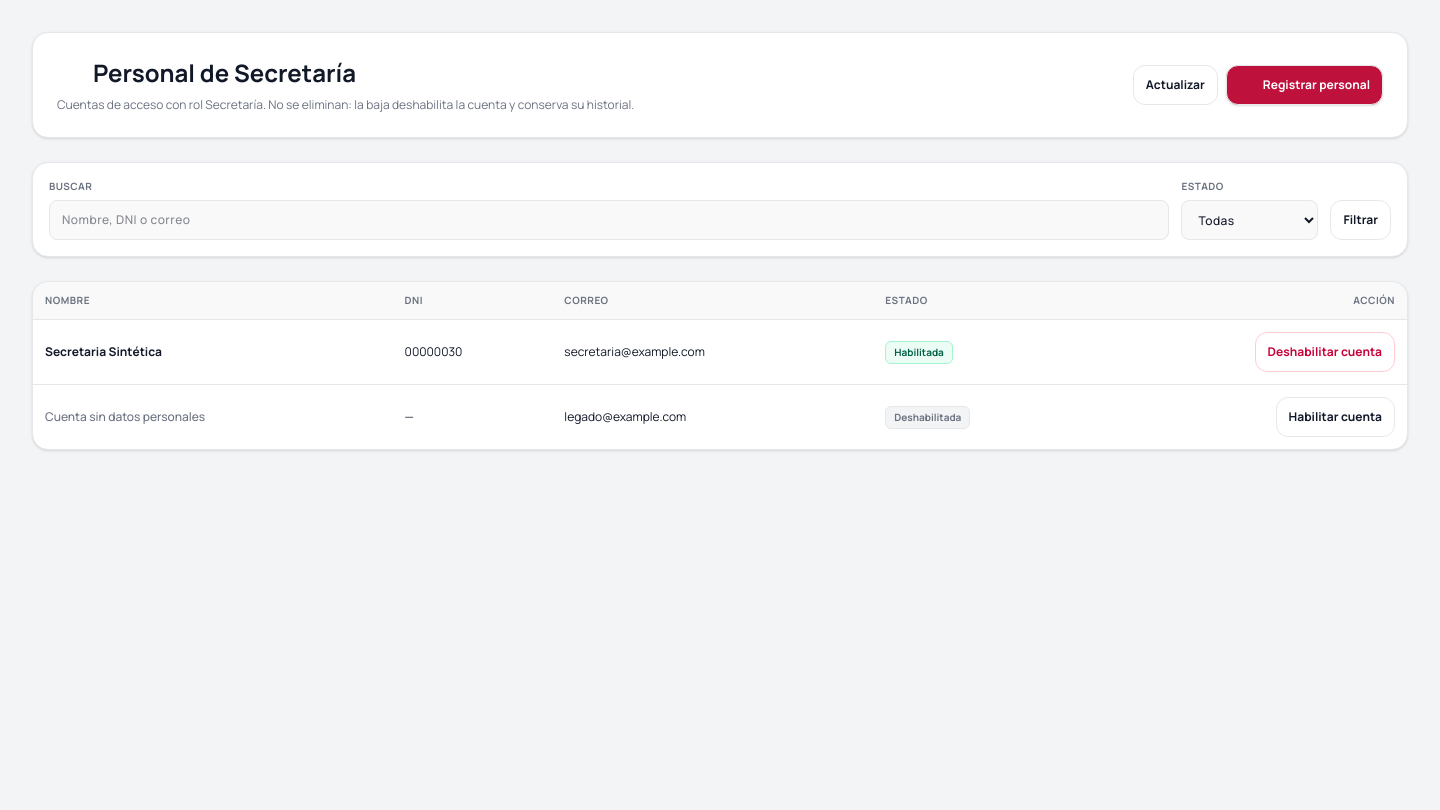
registering staff validates, asks for confirmation, sends the payload and reloads
Click the button "Registrar personal" at (1304, 85), box 1226,65 -> 1383,105
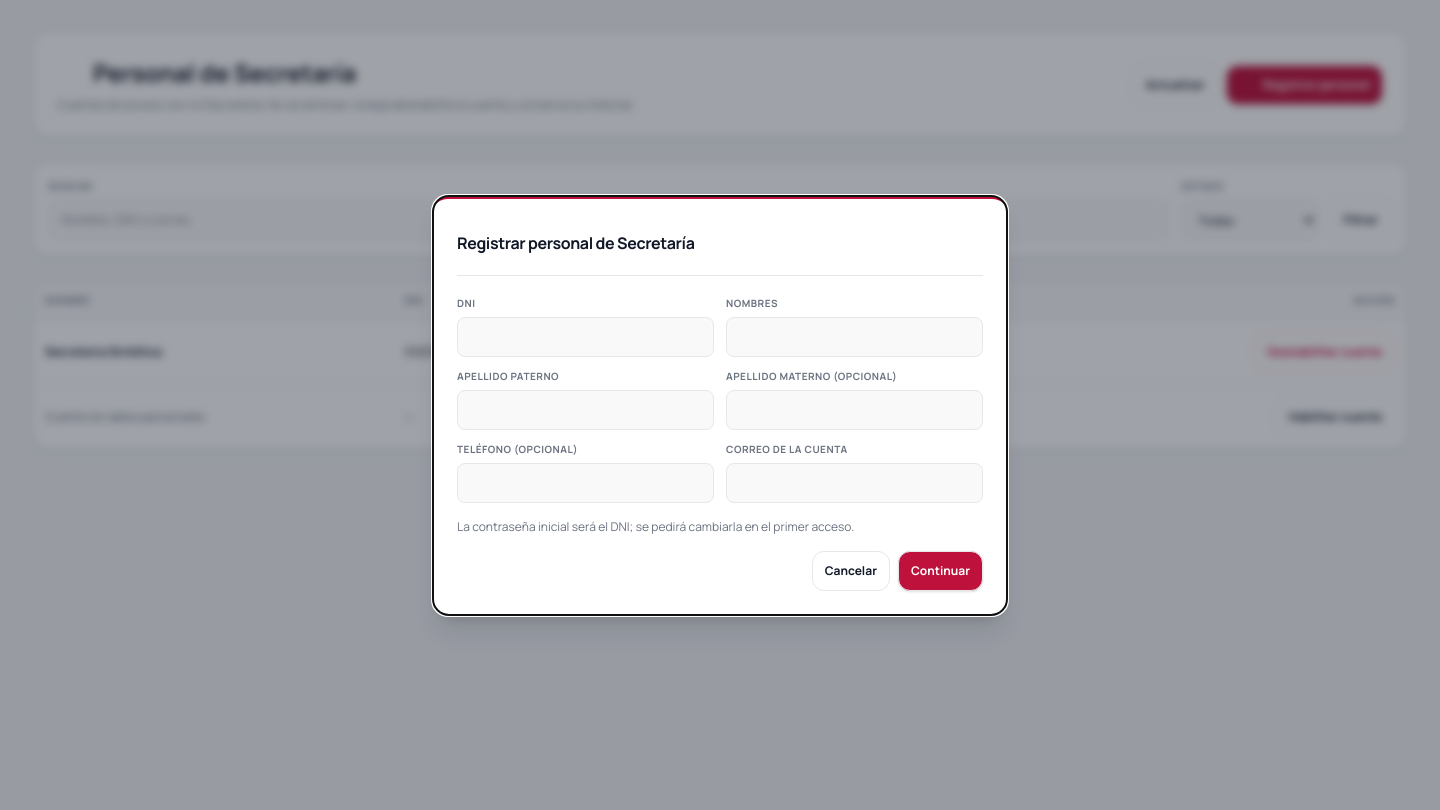
Now the form that starts with "DNI" is shown
Submit the form that starts with "DNI", box 457,296 -> 983,590
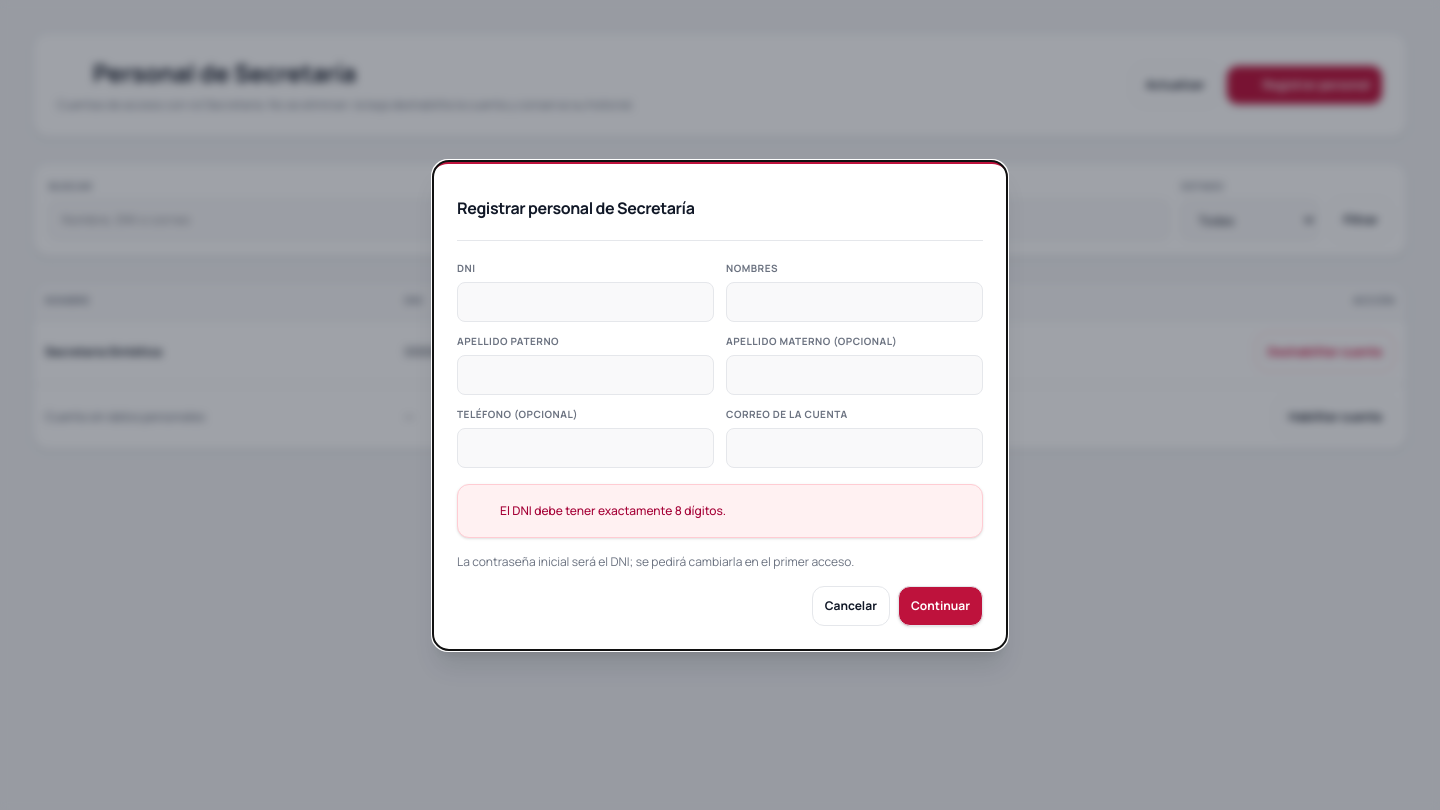
Type "00000040" into the field labelled "DNI" at (586, 302), box 457,282 -> 714,322
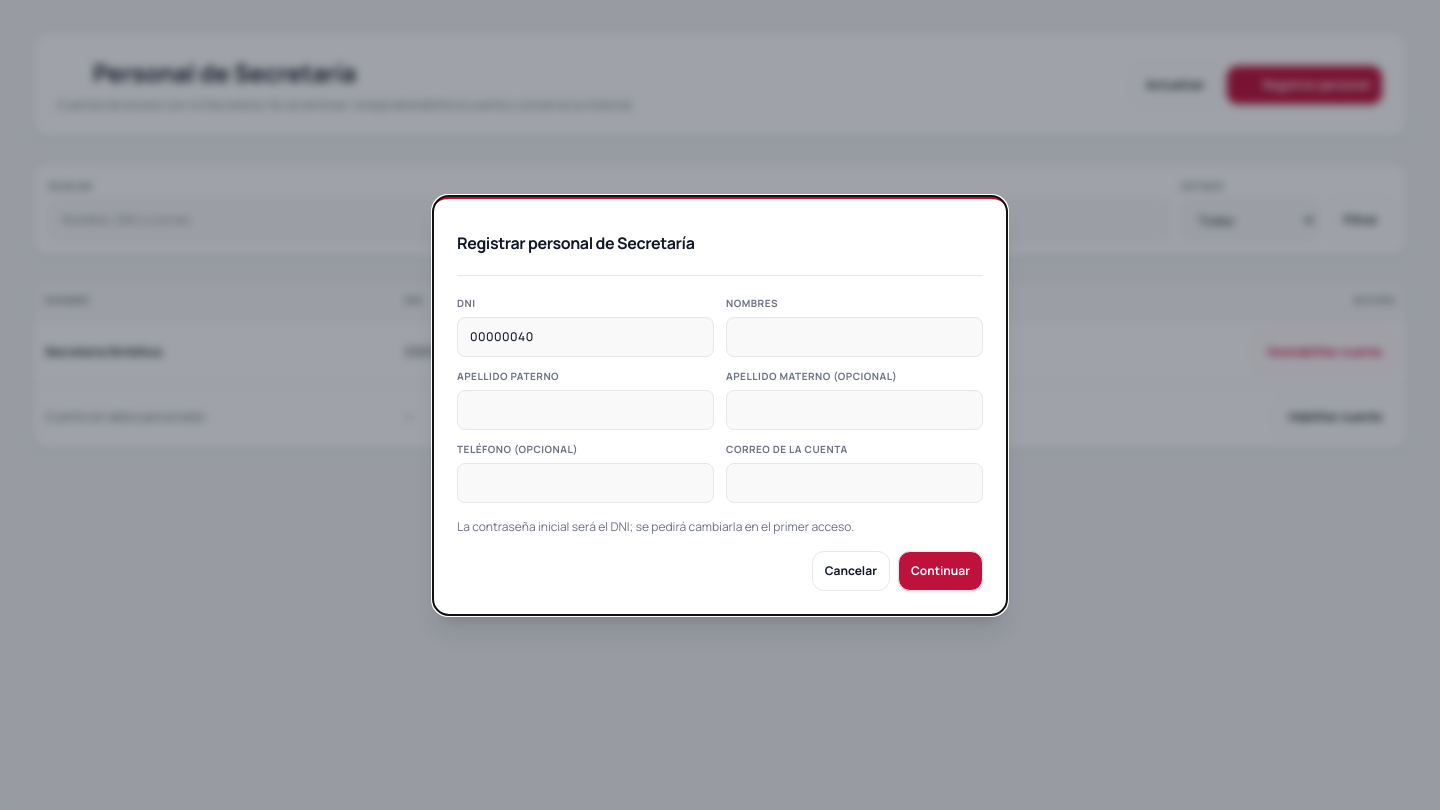
Type "Nueva" into the field labelled "Nombres" at (854, 336), box 726,316 -> 983,356
Type "Sintética" into the field labelled "Apellido paterno" at (586, 410), box 457,390 -> 714,430
Type " Nueva@Example.com " into the field labelled "Correo de la cuenta" at (854, 482), box 726,462 -> 983,502
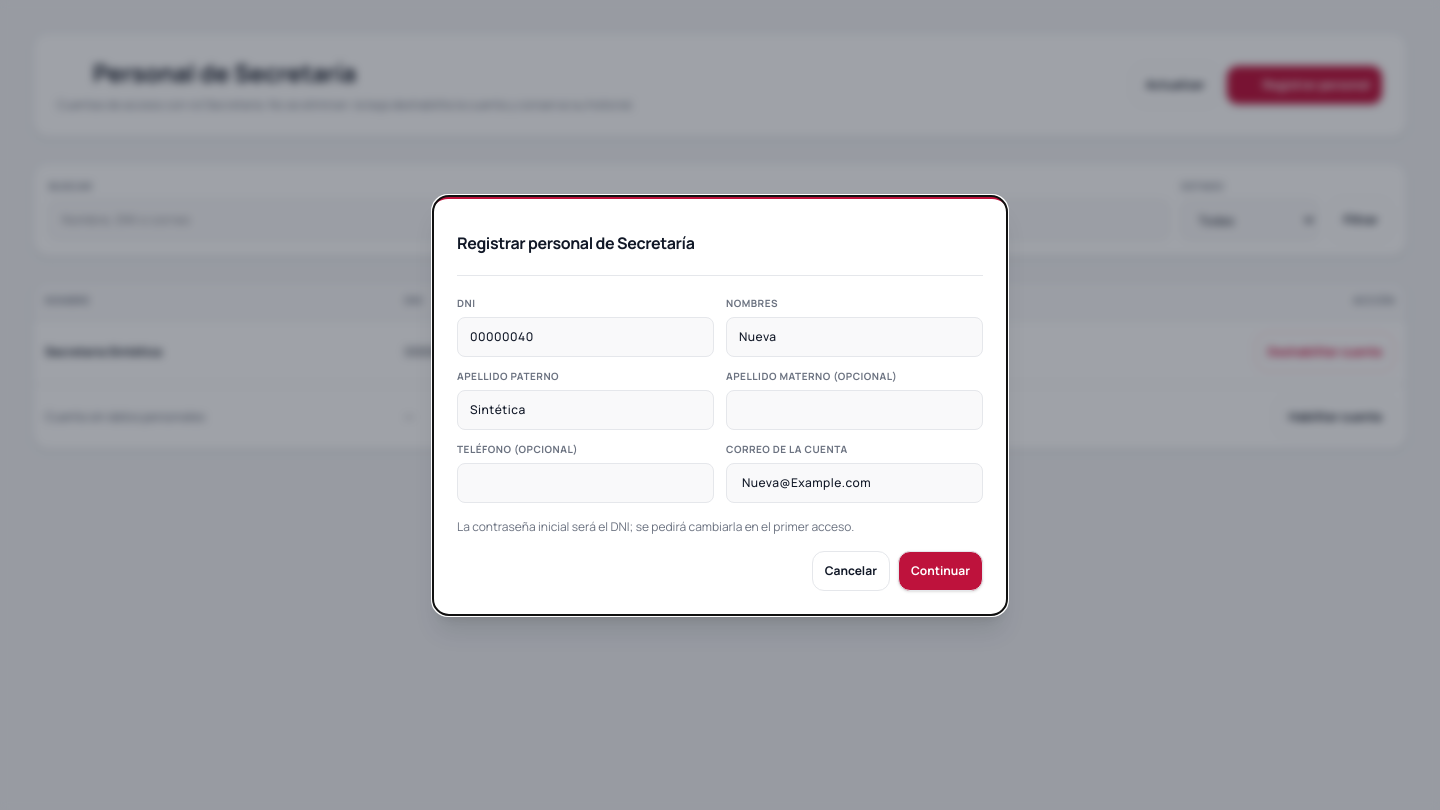
Now the form that starts with "DNI" is shown
Submit the form that starts with "DNI", box 457,296 -> 983,590
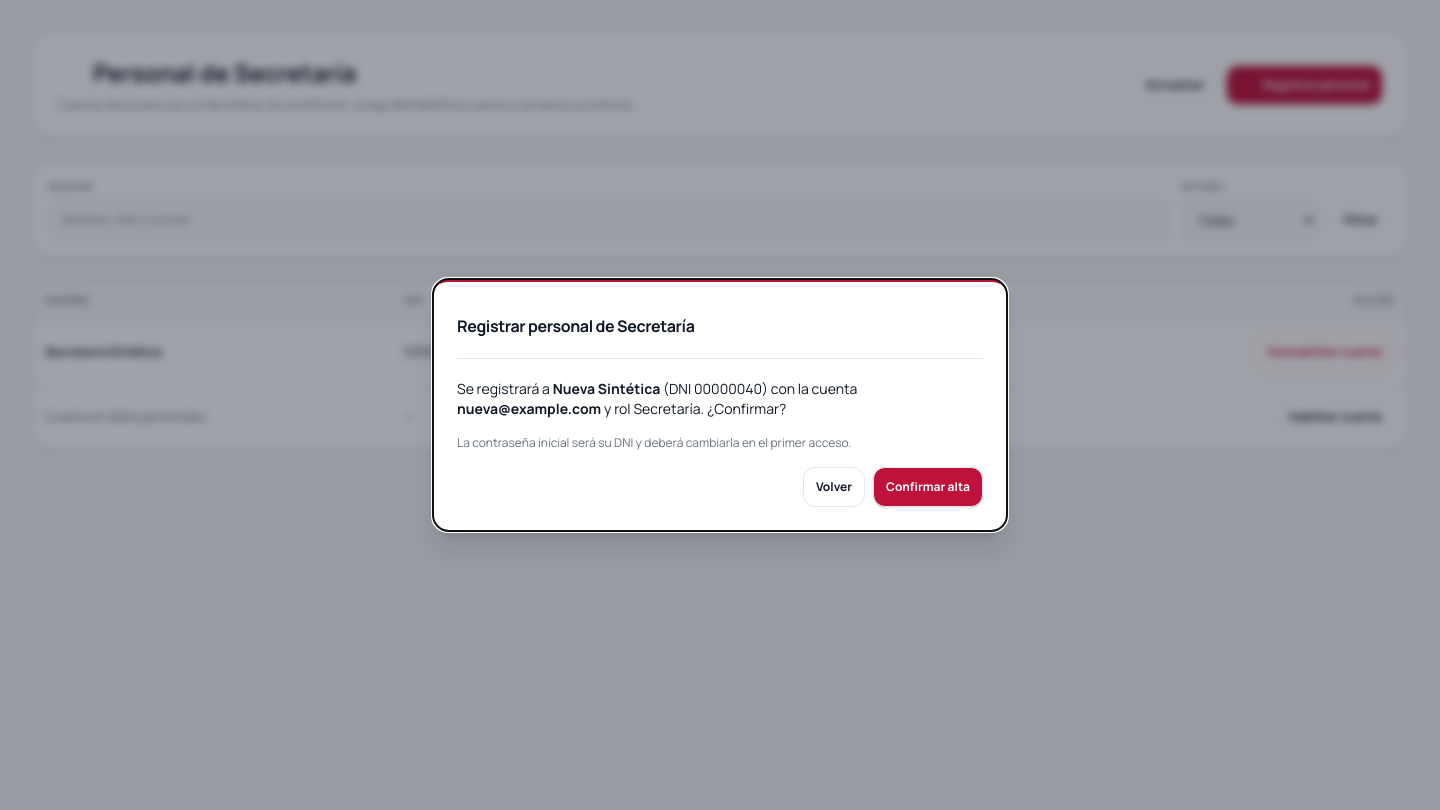
Now the button "Confirmar alta" is shown
Click the button "Confirmar alta" at (928, 487), box 873,467 -> 983,507
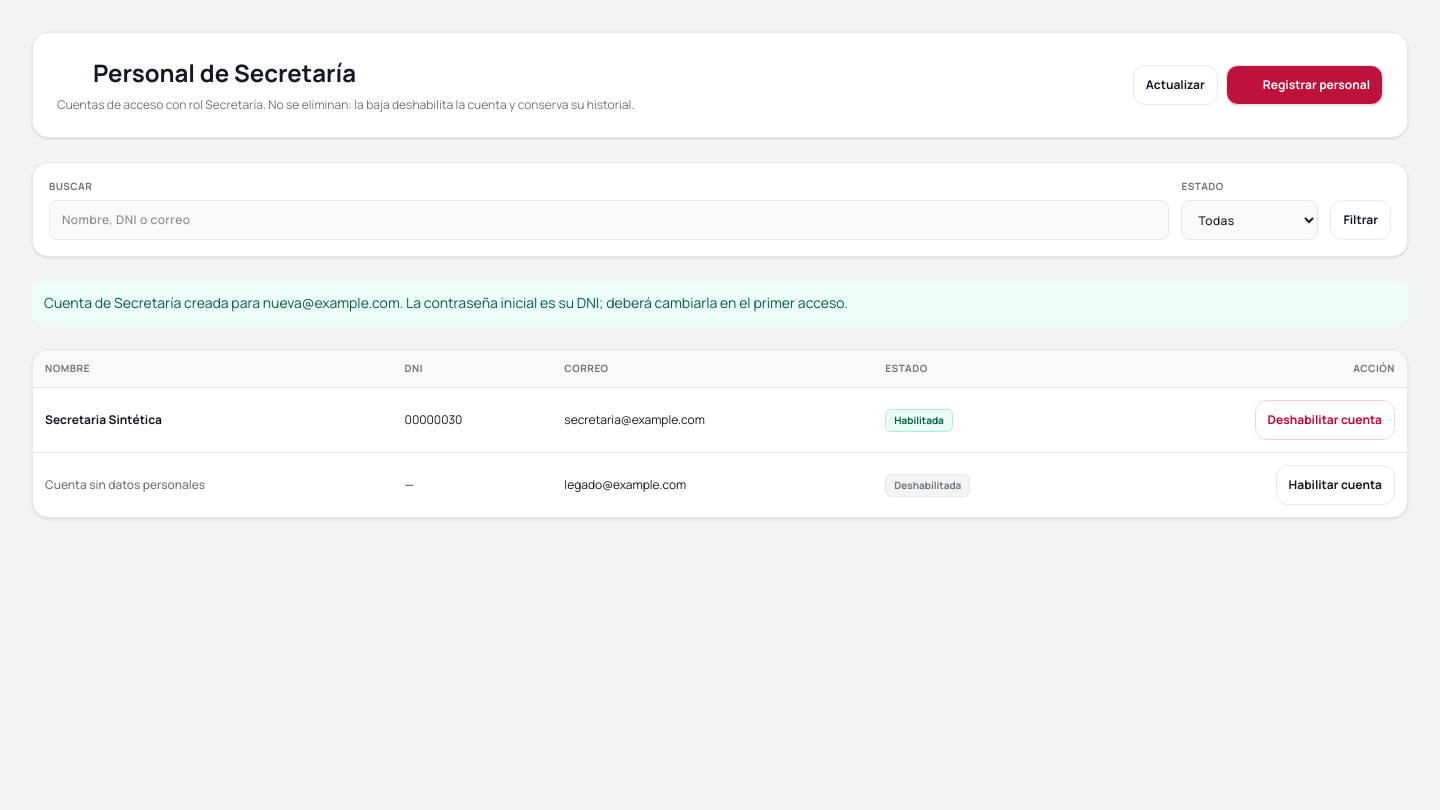
Now the text "Cuenta de Secretaría creada para nueva@example.com" is shown, box 44,293 -> 848,312
